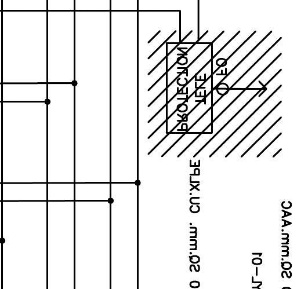tele_protection: (164, 41, 214, 135)
